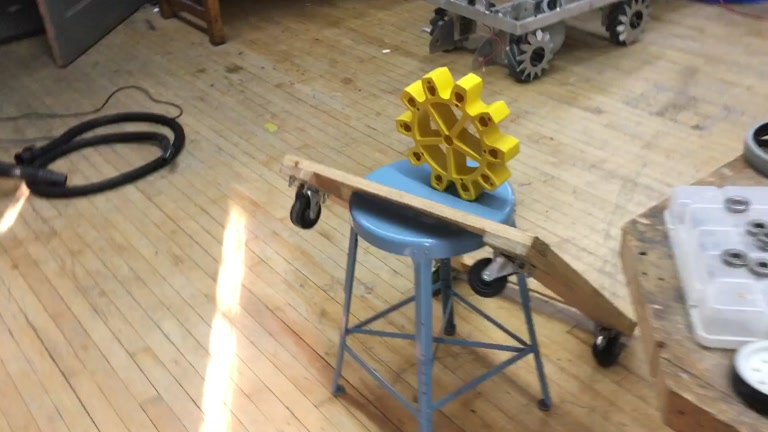gear: (394, 66, 521, 203)
